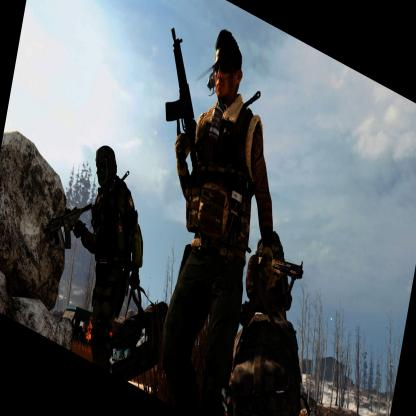rifle: (144, 16, 221, 174), (41, 173, 93, 264)
